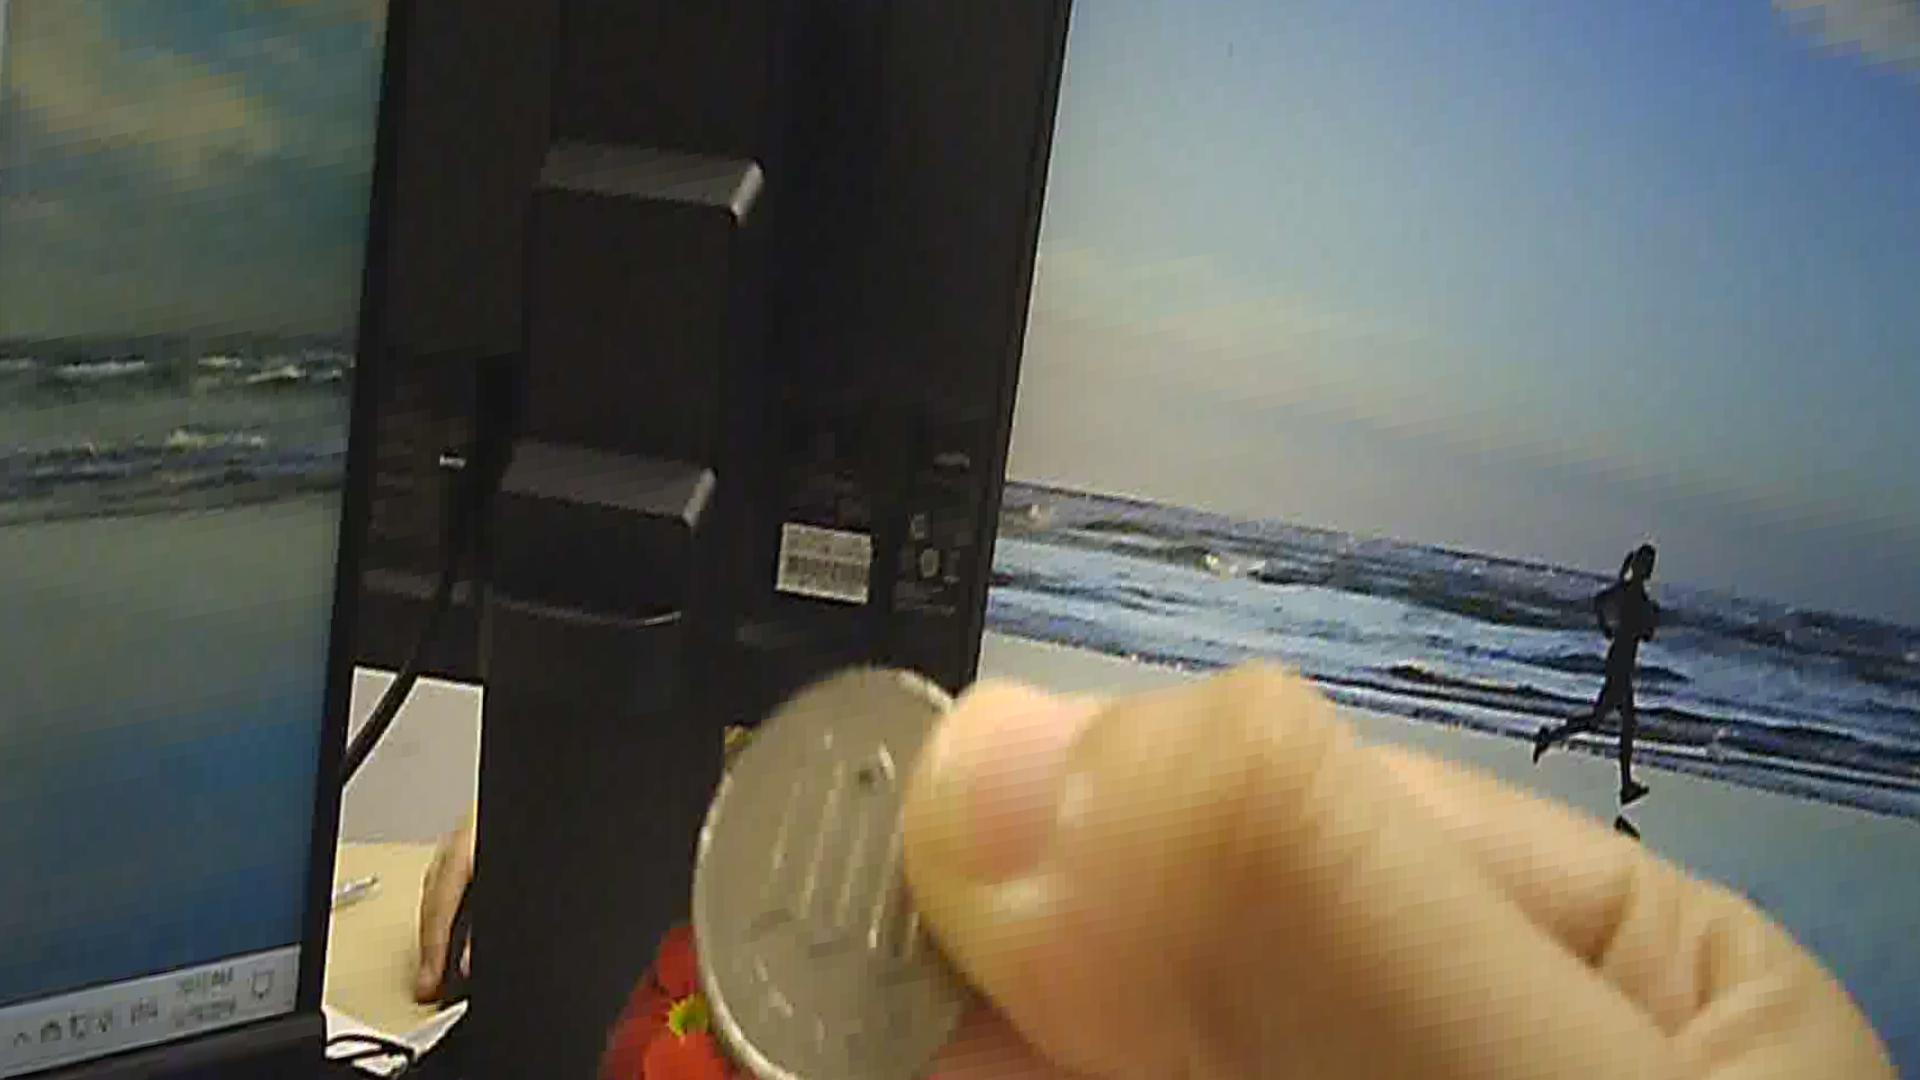100 Yen: (683, 658, 971, 1079)
